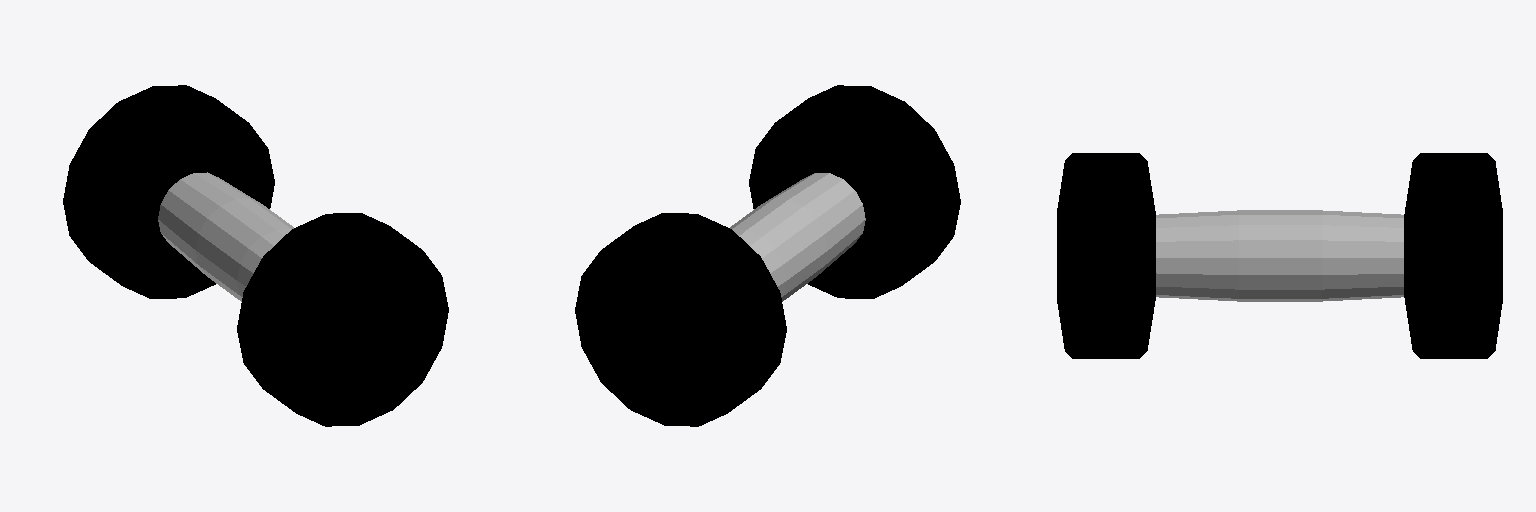
The picture shows the model from 3 angles: view 1: azimuth 30°, elevation 25°; view 2: azimuth 150°, elevation 25°; view 3: azimuth 270°, elevation 25°; orthographic projection.
Parts seen in each view (by area): view 1: Dumbbell1_OBJ_1:Cylinder001 polySurface4, polySurface3 Dumbbell1_OBJ_1:Cylinder001; view 2: Dumbbell1_OBJ_1:Cylinder001 polySurface4, polySurface3 Dumbbell1_OBJ_1:Cylinder001; view 3: Dumbbell1_OBJ_1:Cylinder001 polySurface4, polySurface3 Dumbbell1_OBJ_1:Cylinder001.
Part boxes in pixels (left/top/right/bottom): Dumbbell1_OBJ_1:Cylinder001 polySurface4: left=63, top=85, right=448, bottom=426; polySurface3 Dumbbell1_OBJ_1:Cylinder001: left=158, top=172, right=293, bottom=301; Dumbbell1_OBJ_1:Cylinder001 polySurface4: left=575, top=85, right=960, bottom=426; polySurface3 Dumbbell1_OBJ_1:Cylinder001: left=730, top=173, right=865, bottom=301; Dumbbell1_OBJ_1:Cylinder001 polySurface4: left=1057, top=153, right=1502, bottom=358; polySurface3 Dumbbell1_OBJ_1:Cylinder001: left=1156, top=210, right=1403, bottom=301.
Size of the model in its own units: 0.6281 by 0.6281 by 1.36.
Materials: 2 (2 with a texture image).